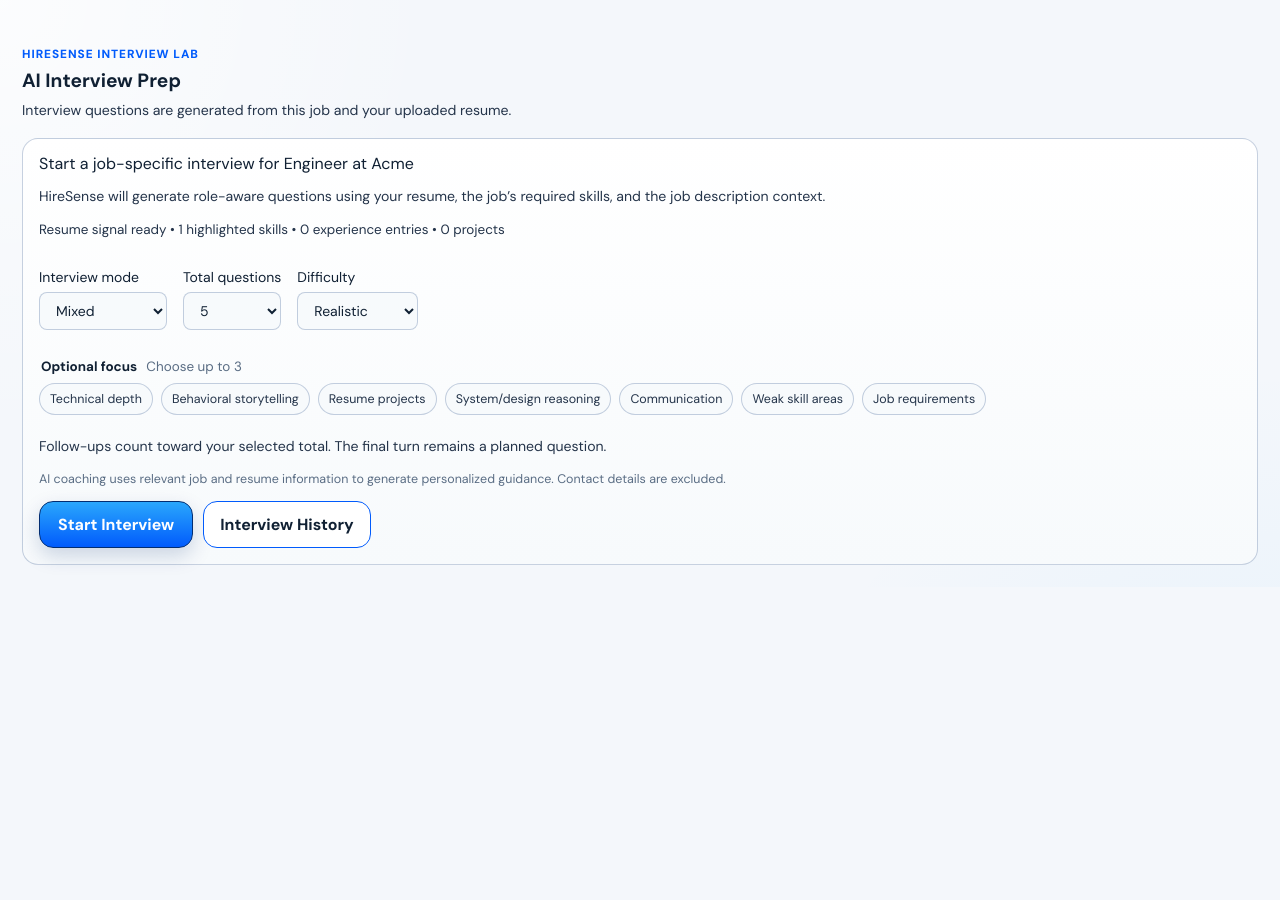
Test: AIInterviewPanel › opens an owned completed report from interview history
The image size is (1280, 900).
Click the button "Interview History" at (287, 524), box [203, 501, 371, 548]
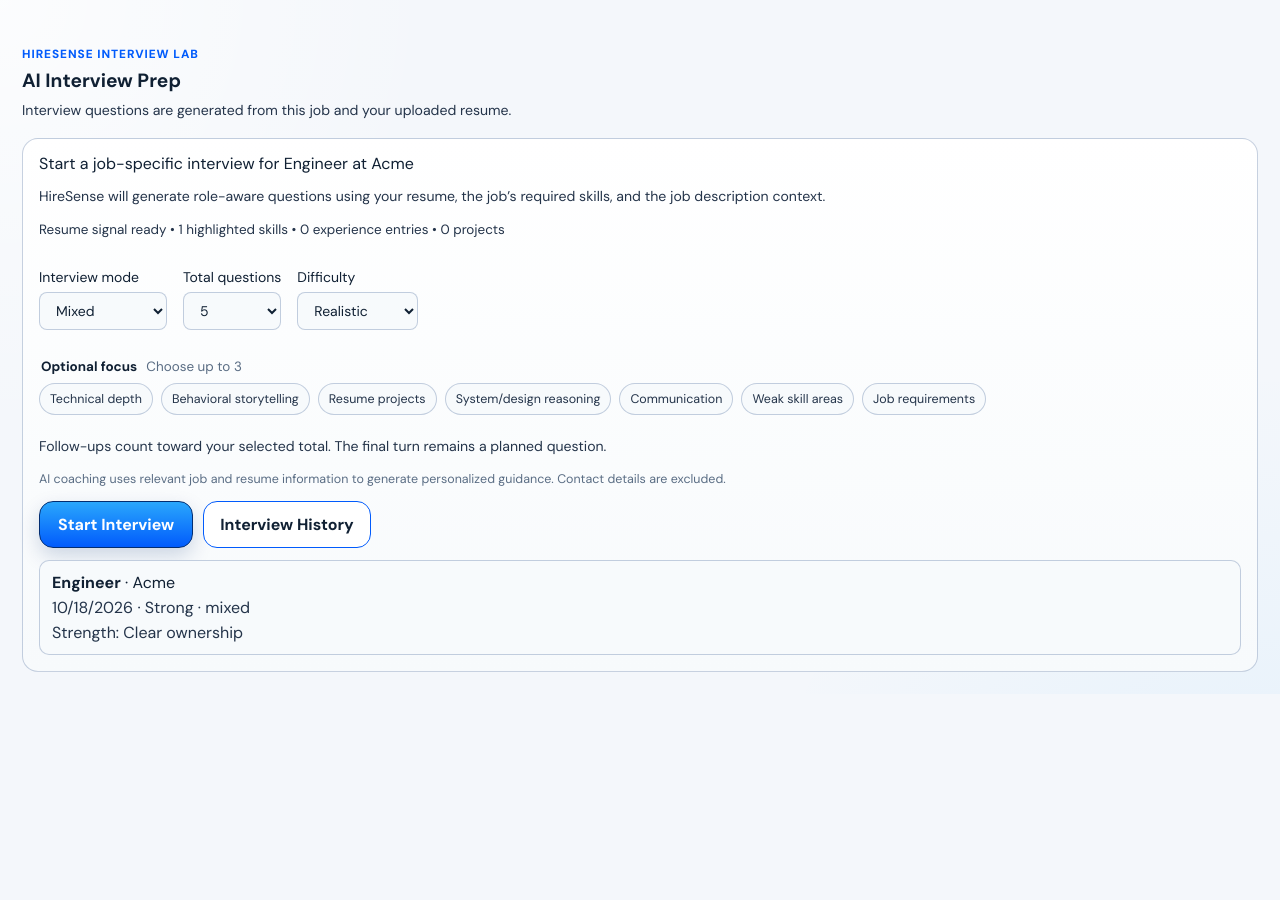
Expected: the text "Strong" is shown, [145, 597, 194, 618]
Click the button that starts with "Engineer" at (86, 582), box [39, 560, 1241, 655]
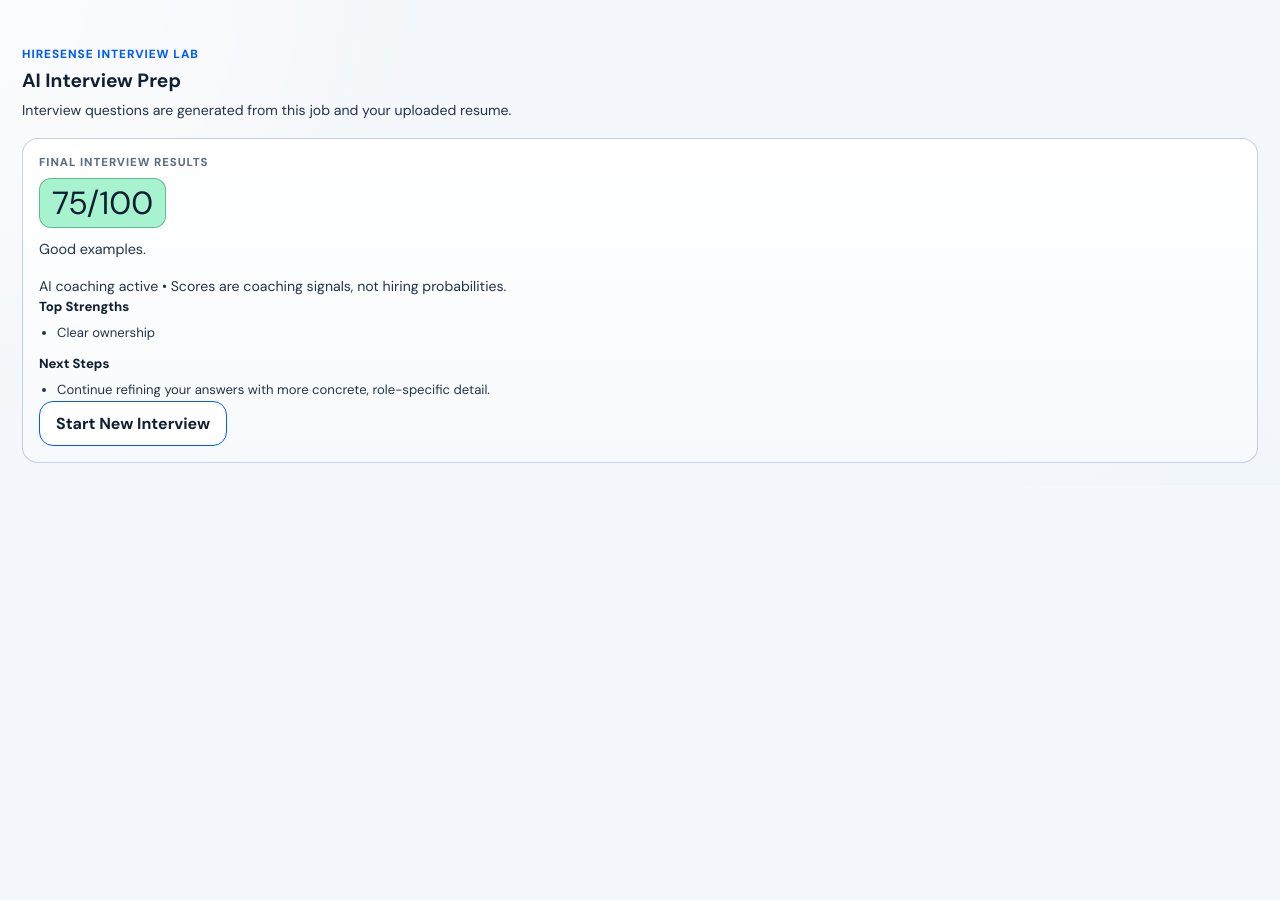
Expected: the text "Good examples." is shown, [39, 240, 146, 258]
